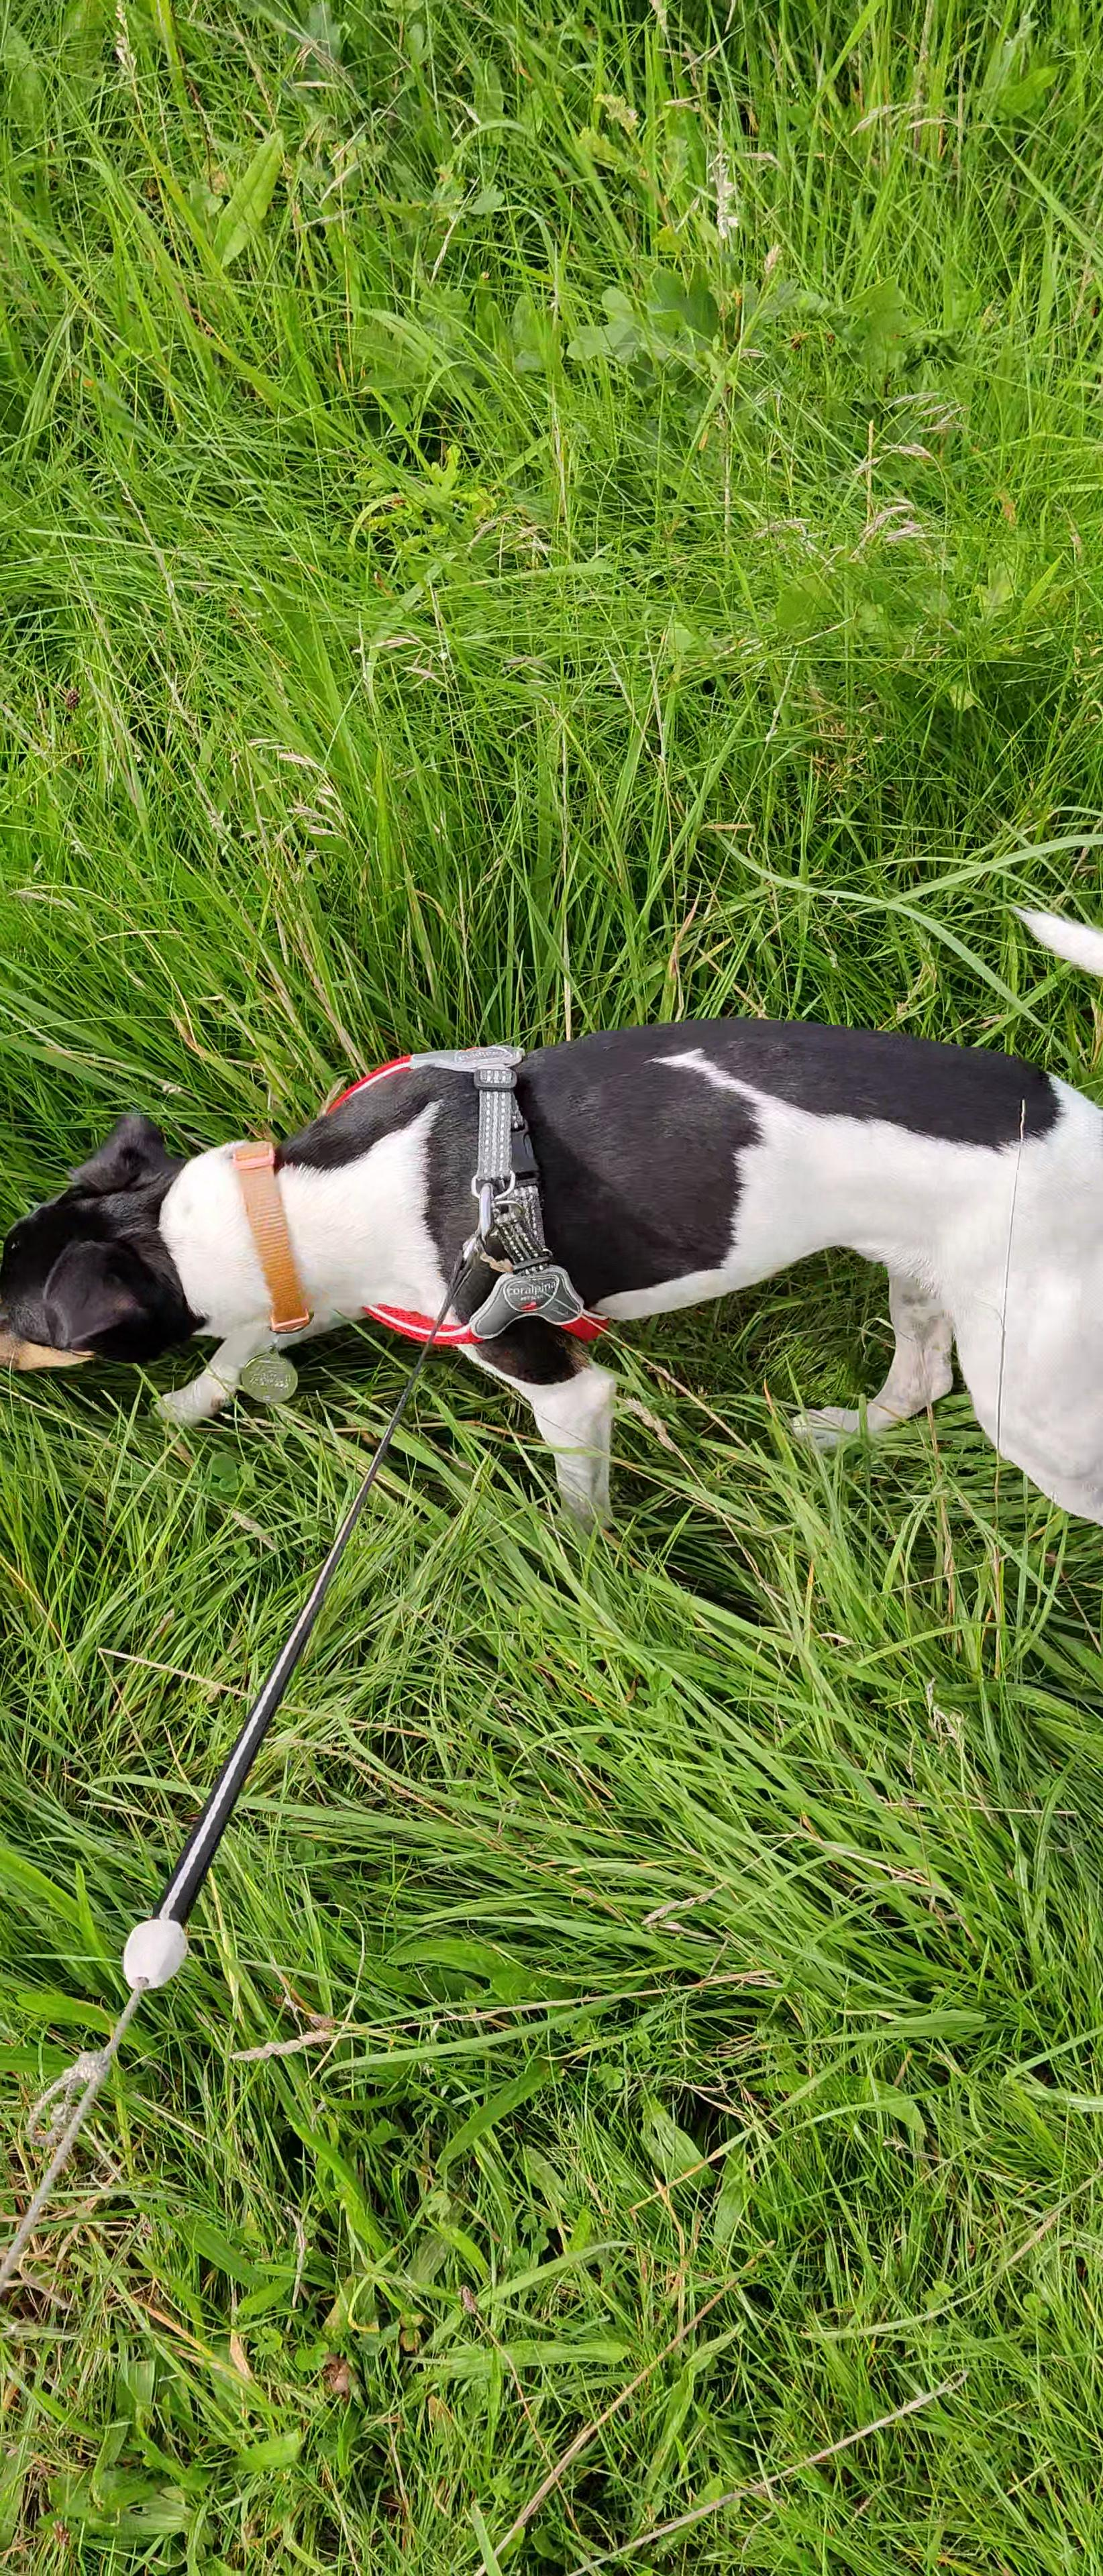Dog: (0, 905, 1103, 1528)
